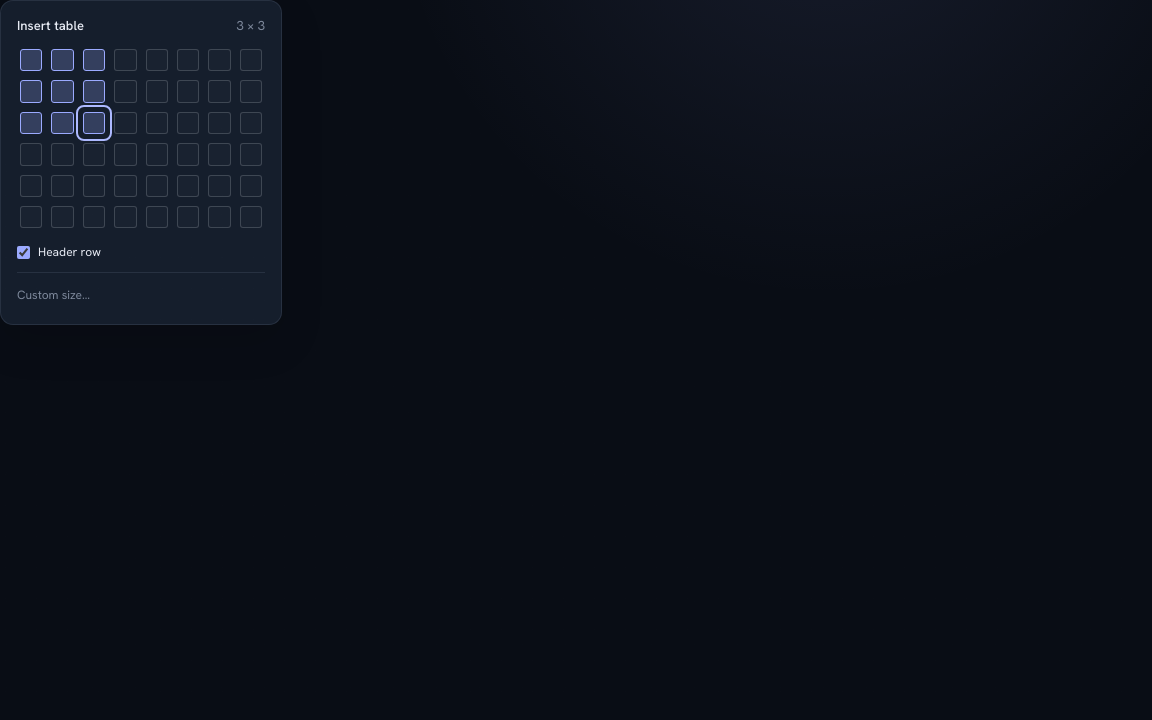
Test: Orion editable tables › rejects stale picker insertion without deleting a slash or changing the note
Click the button named "3 columns, 3 rows" at (94, 123), box [80,109,108,137]
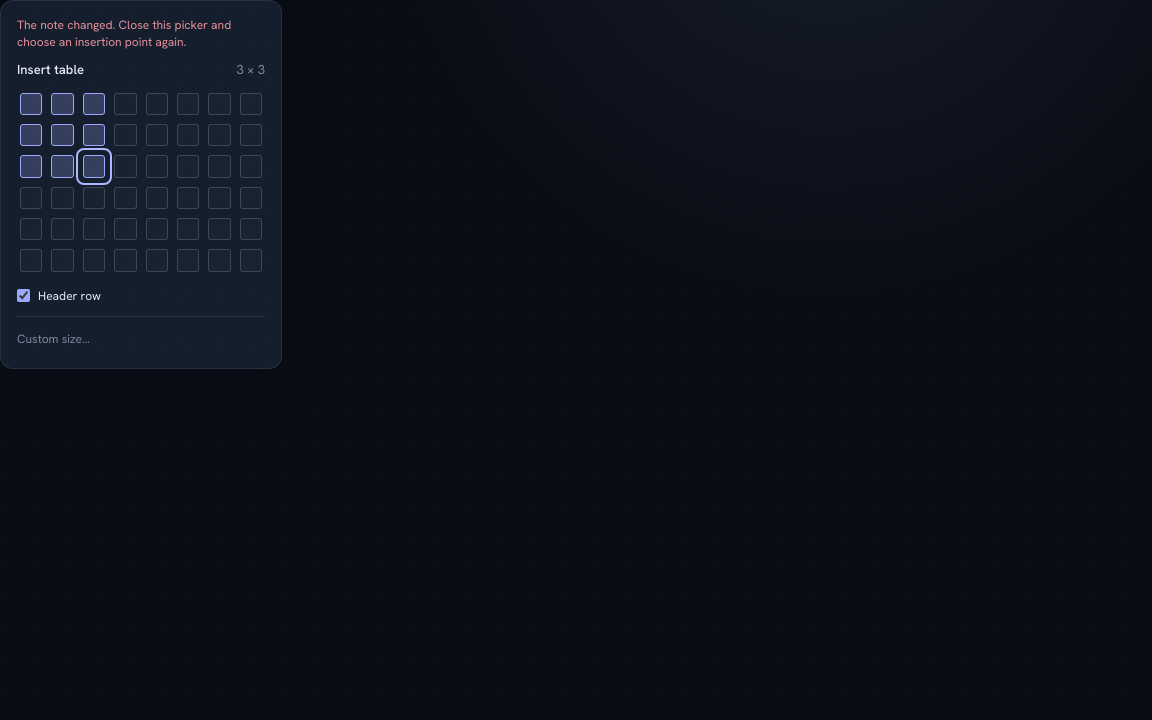
Now the message shows "The note changed", box [17,17,231,50]
